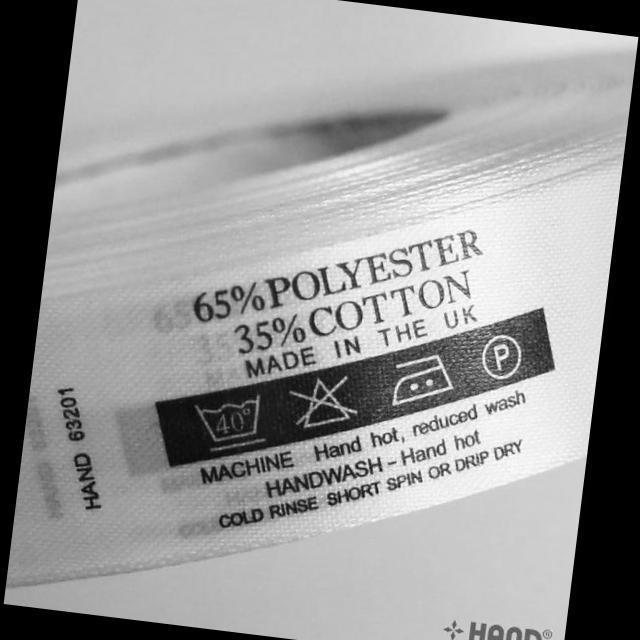40C: (184, 382, 276, 464)
DN_bleach: (278, 364, 369, 440)
iron_medium: (382, 342, 463, 418)
normal_dry_clean_solvents: (476, 326, 528, 385)
